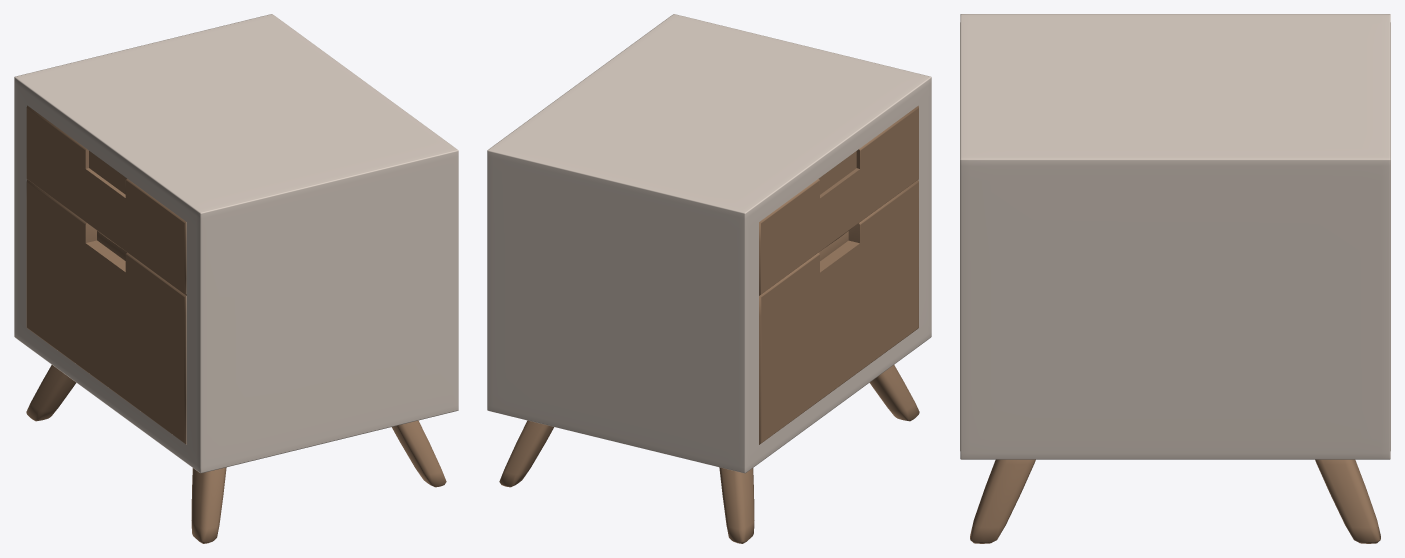
File: Buro.fbx
3 renders of one model, left to right at view 1: azimuth 30°, elevation 25°; view 2: azimuth 150°, elevation 25°; view 3: azimuth 270°, elevation 25°, orthographic. The views are drawn at different scales.
Visible parts, largest first — view 1: Buro-cama; view 2: Buro-cama; view 3: Buro-cama.
Part boxes in pixels (x1,y1,x2,y2): Buro-cama: (14, 14, 458, 543); Buro-cama: (487, 14, 931, 543); Buro-cama: (960, 14, 1390, 543).
Bounding box in the file's own units: 40.2 × 49.95 × 50.
